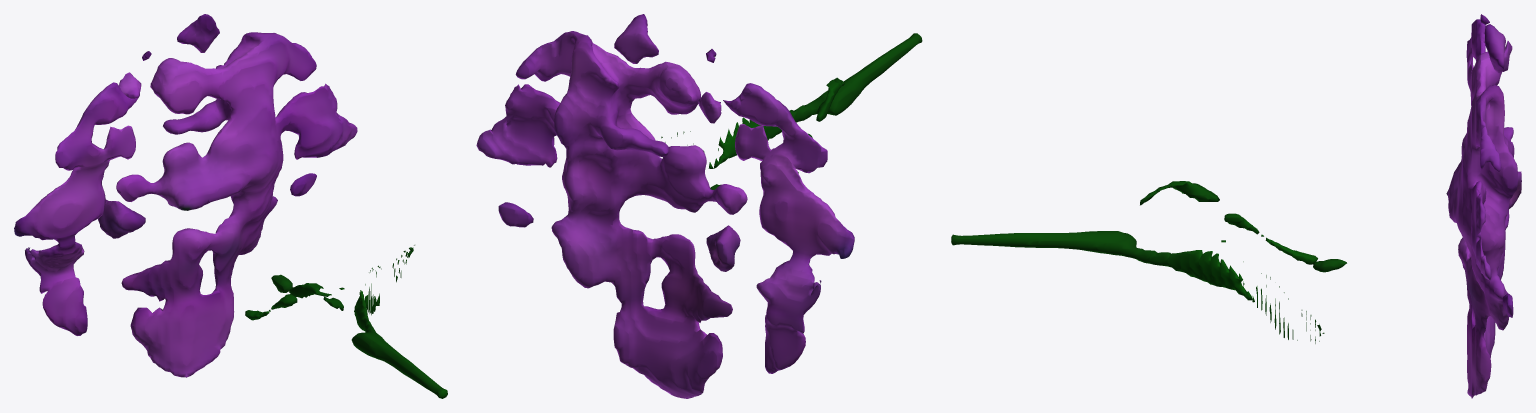
3 views of the same model, side by side, from view 1: azimuth 30°, elevation 25°; view 2: azimuth 150°, elevation 25°; view 3: azimuth 270°, elevation 25° (orthographic). The views are drawn at different scales.
Visible parts, largest first — view 1: plyFile; view 2: plyFile; view 3: plyFile.
Boxes of the visible parts, left/top/right/bottom form: plyFile: left=14, top=14, right=447, bottom=398; plyFile: left=476, top=14, right=922, bottom=398; plyFile: left=951, top=14, right=1521, bottom=398.
Size of the model in its own units: 150 by 146 by 198.
